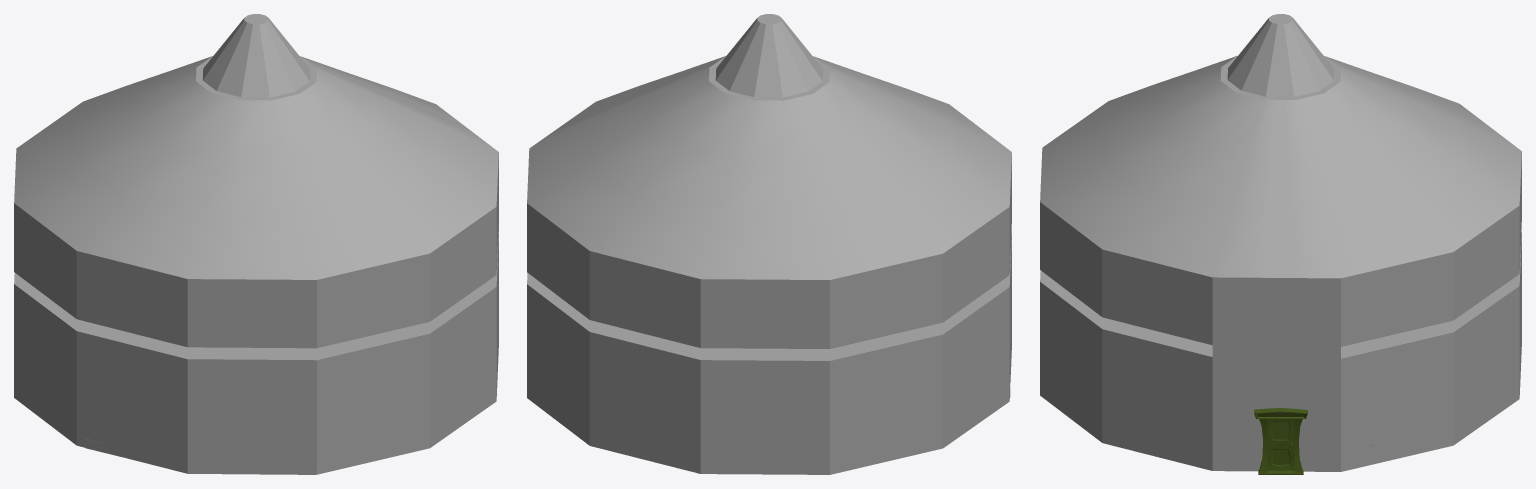
File: GreenHouse_Unwrapped.fbx
3 views of the same model, side by side, from view 1: azimuth 30°, elevation 25°; view 2: azimuth 150°, elevation 25°; view 3: azimuth 270°, elevation 25° (orthographic).
Visible parts, largest first — view 1: GreenhouseStructure; view 2: GreenhouseStructure; view 3: GreenhouseStructure, Door2, polySurface4.
Boxes of the visible parts, bbox=[...] form: GreenhouseStructure: bbox=[14, 14, 498, 474]; GreenhouseStructure: bbox=[527, 14, 1011, 474]; GreenhouseStructure: bbox=[1040, 14, 1521, 471]; Door2: bbox=[1267, 419, 1294, 470]; polySurface4: bbox=[1254, 408, 1307, 474].
Size of the model in its own units: 54.34 by 43.39 by 53.49.
